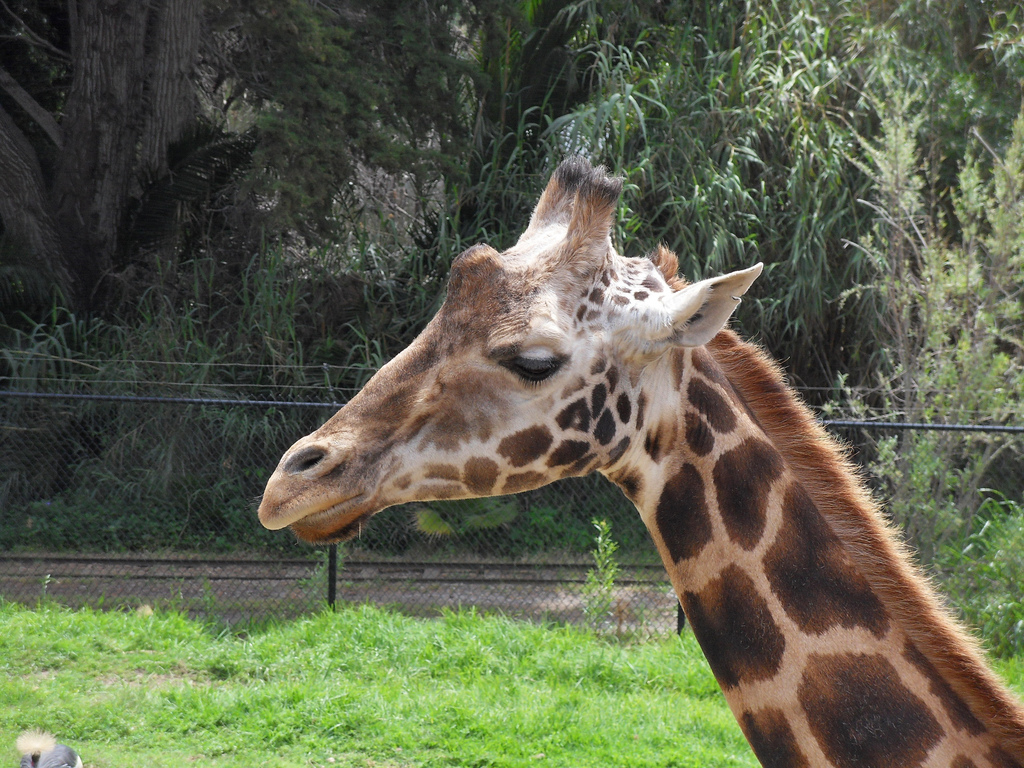giraffe: (259, 162, 948, 758)
